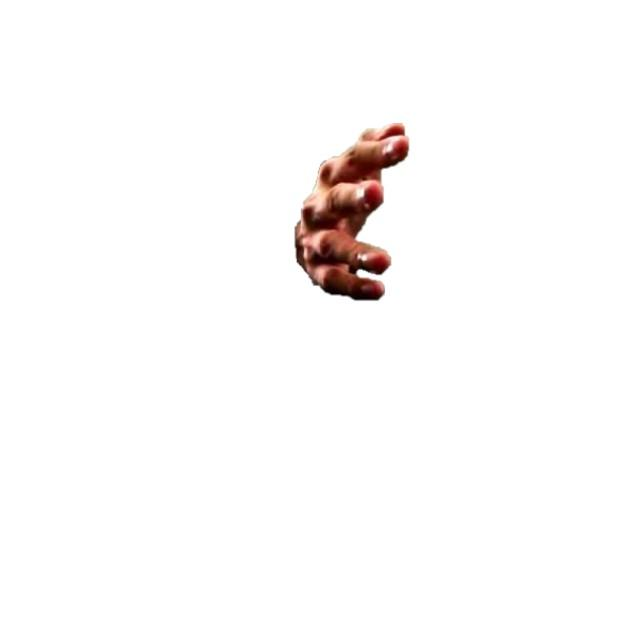pa-: (293, 120, 410, 303)
